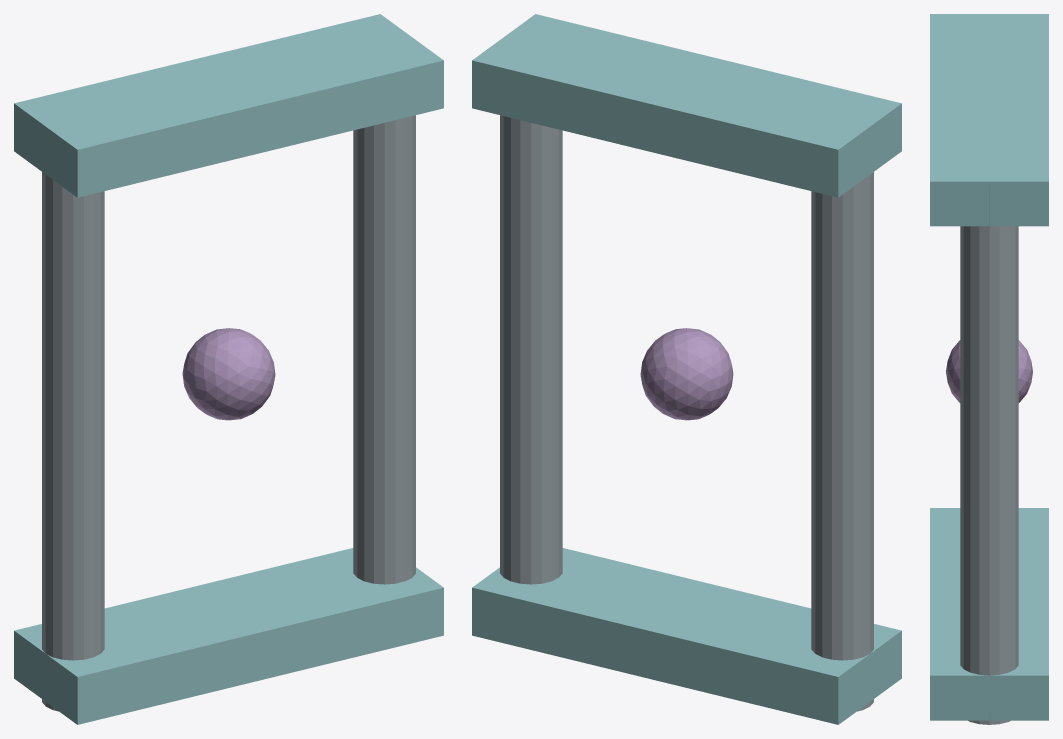
Rendered from time_portal.glb.
3 renders of one model, left to right at view 1: azimuth 30°, elevation 25°; view 2: azimuth 150°, elevation 25°; view 3: azimuth 270°, elevation 25°, orthographic. The views are drawn at different scales.
Parts seen in each view (by area): view 1: part_02, part_03, part_00, part_01, part_04; view 2: part_02, part_03, part_00, part_01, part_04; view 3: part_01, part_02, part_03, part_04.
Part boxes in pixels (x1,y1,x2,y2): part_02: (14,14,443,197); part_03: (14,548,443,724); part_00: (42,172,104,711); part_01: (353,115,415,584); part_04: (182,328,275,420); part_02: (472,14,901,197); part_03: (472,548,901,724); part_00: (811,172,873,711); part_01: (500,115,562,584); part_04: (640,328,733,420); part_01: (960,186,1018,724); part_02: (930,14,1048,226); part_03: (930,508,1048,720); part_04: (946,340,1032,402).
Bounding box in the file's own units: 2 × 3.03 × 0.6.
